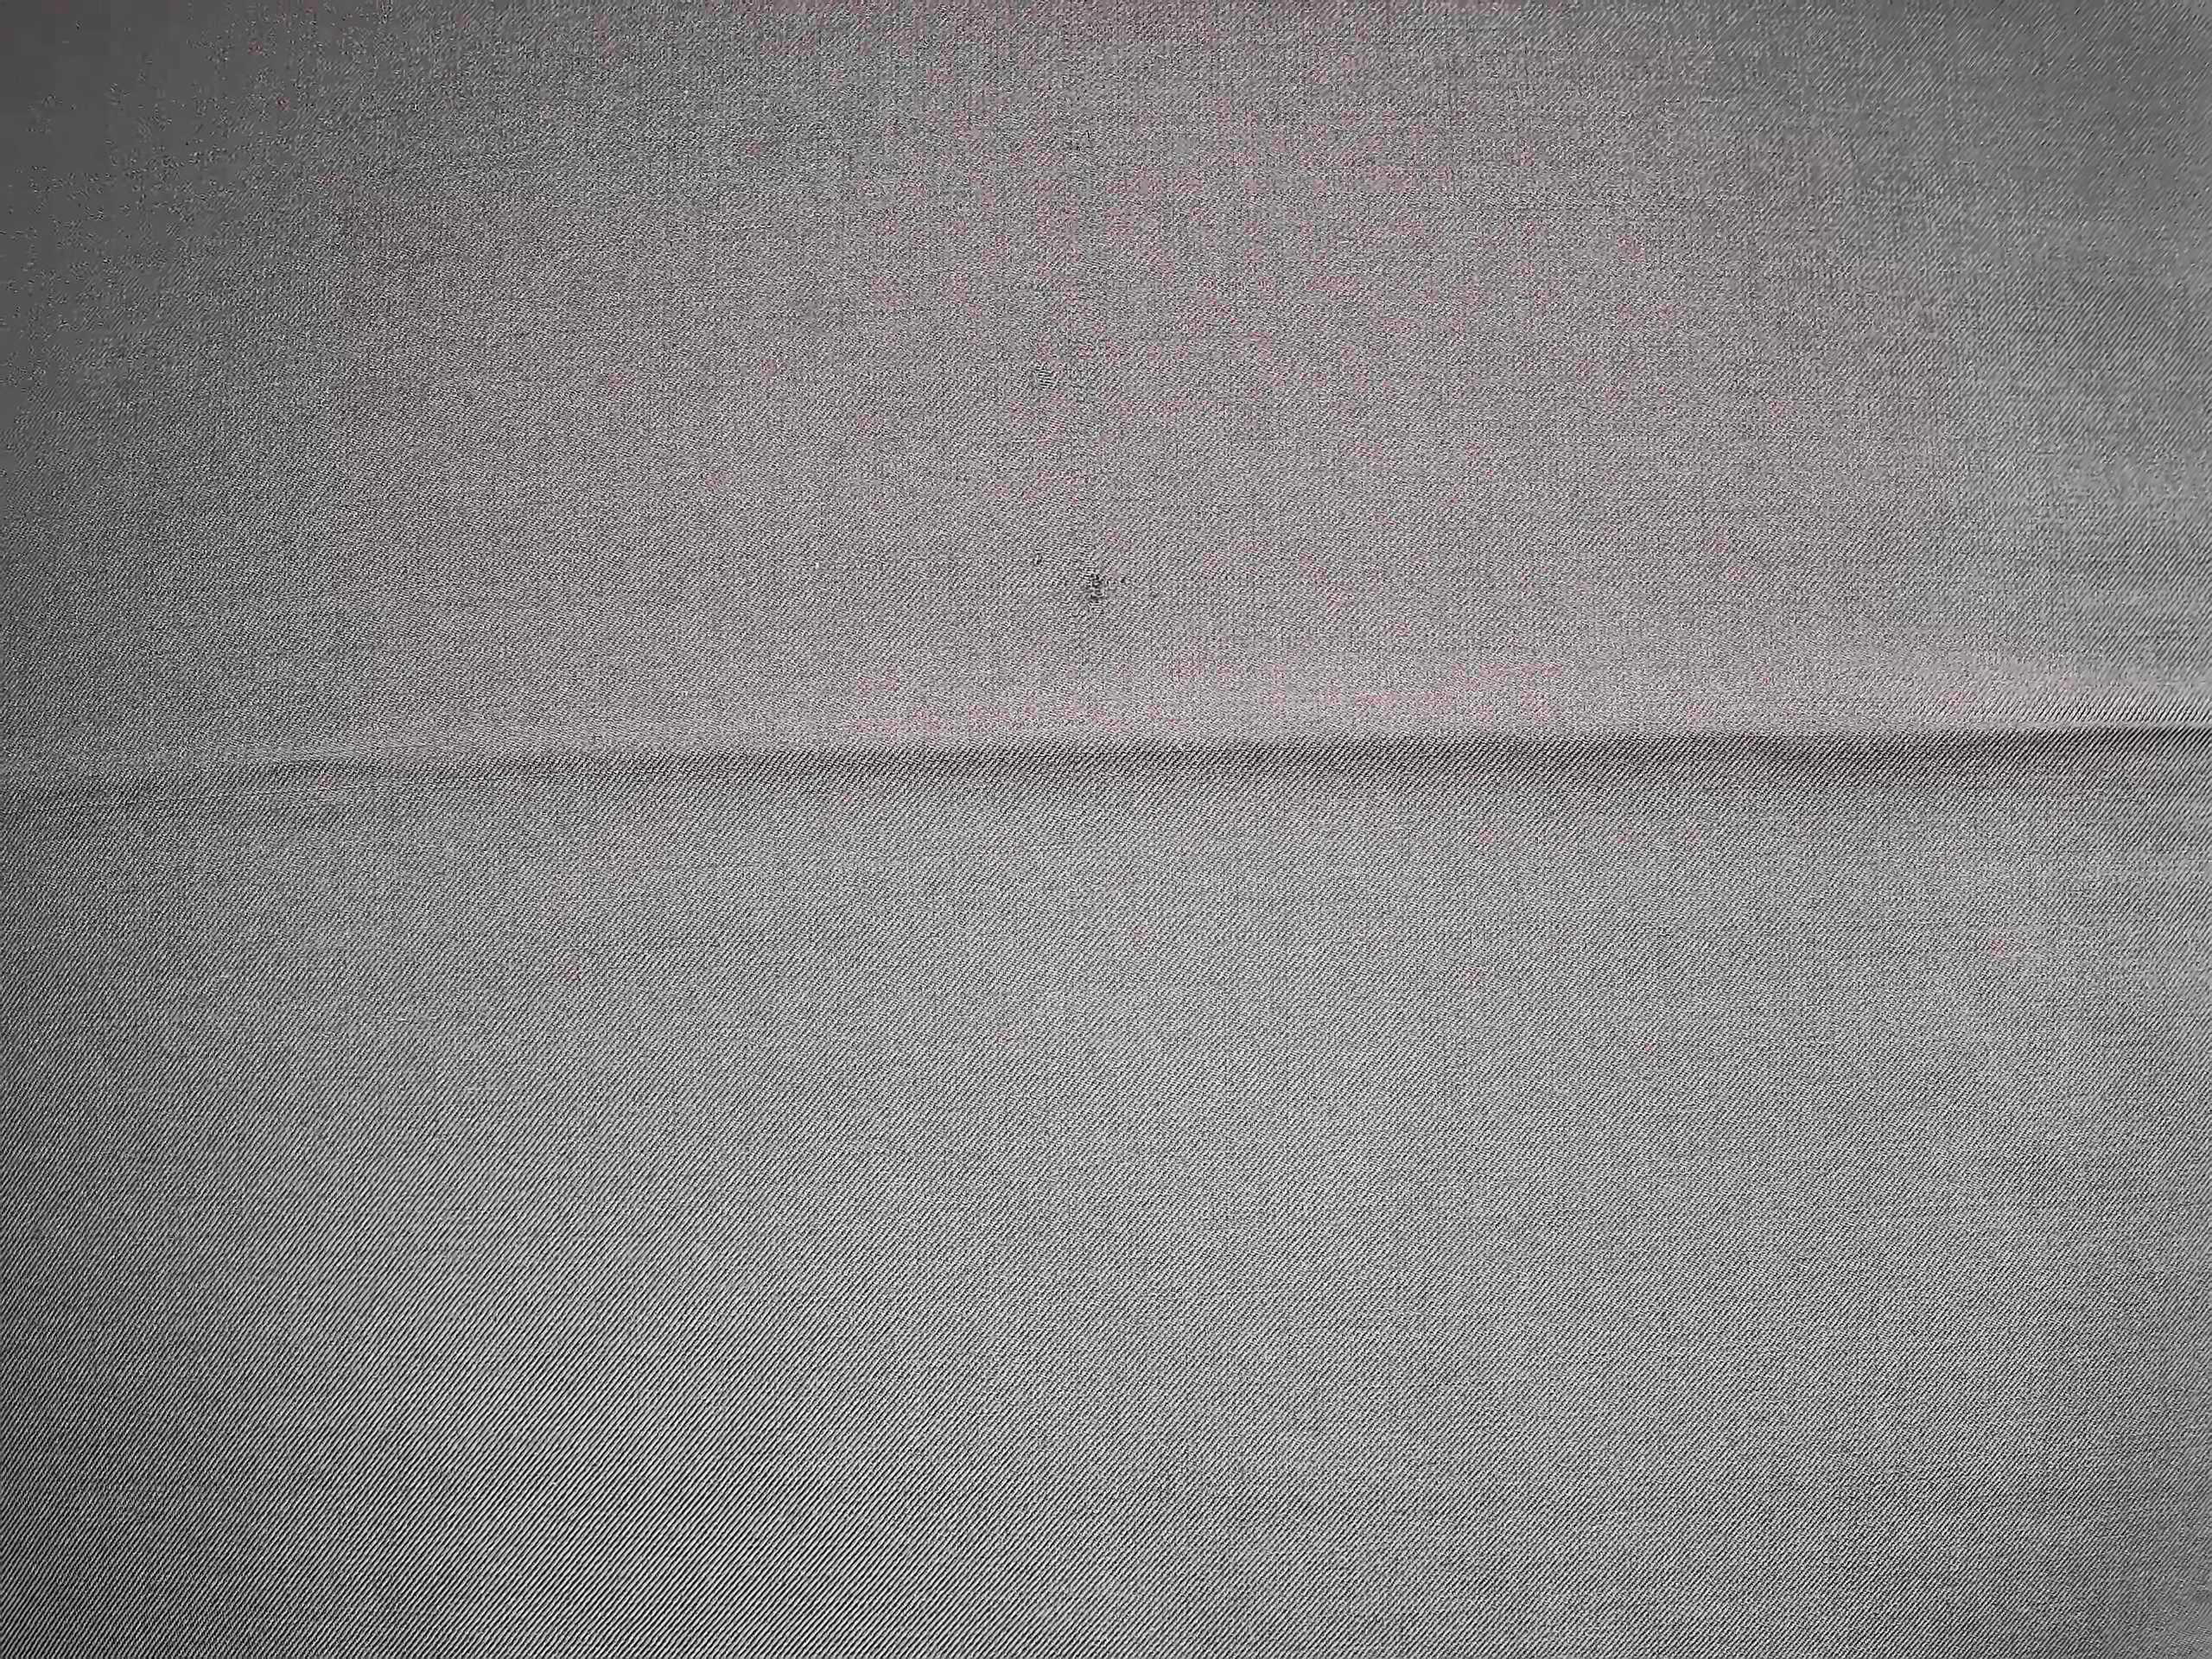hanging-warp: (1062, 516, 1129, 662)
